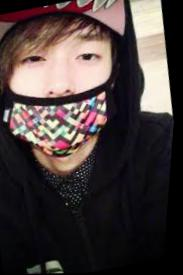WRONG: (1, 17, 129, 165)
